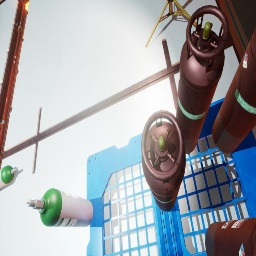0: (26, 188, 93, 227), (0, 165, 18, 188)
NitrogenTank ,: (176, 5, 230, 154), (212, 27, 256, 153), (141, 110, 186, 212), (205, 217, 256, 256)
